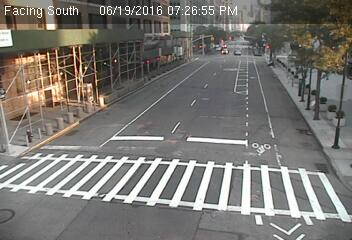neg: (127, 135, 151, 167), (211, 107, 234, 138), (313, 100, 334, 128), (88, 156, 109, 184), (233, 70, 253, 96), (53, 152, 73, 178), (245, 180, 265, 205), (147, 71, 166, 95), (185, 139, 203, 163), (30, 38, 48, 62), (49, 105, 66, 128), (114, 39, 131, 62), (189, 184, 206, 206), (256, 134, 272, 155), (290, 88, 306, 109), (95, 88, 111, 108), (138, 191, 153, 212), (201, 30, 216, 50)
